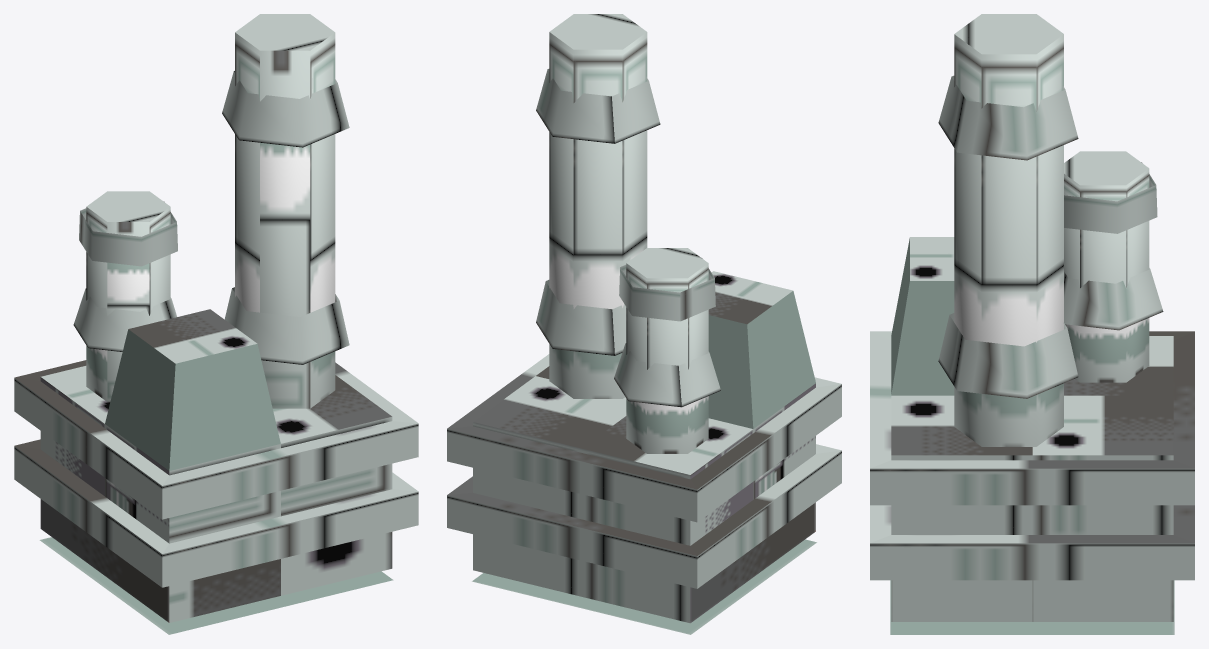
Rendered from BLD_Oil_Refinery_Target02.fbx.
The picture shows the model from 3 angles, left to right: view 1: azimuth 30°, elevation 25°; view 2: azimuth 150°, elevation 25°; view 3: azimuth 270°, elevation 25°; orthographic projection. The views are drawn at different scales.
Parts seen in each view (by area): view 1: BLD_OilRefinery_Target02; view 2: BLD_OilRefinery_Target02; view 3: BLD_OilRefinery_Target02.
Boxes of the visible parts, x1=… form: BLD_OilRefinery_Target02: x1=14, y1=14, x2=418, y2=634; BLD_OilRefinery_Target02: x1=447, y1=14, x2=841, y2=634; BLD_OilRefinery_Target02: x1=870, y1=14, x2=1194, y2=634.
Size of the model in its own units: 915 by 915 by 1776.
